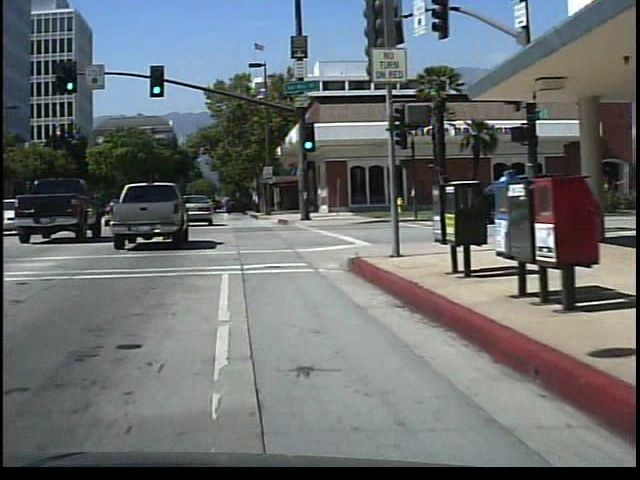car: (104, 179, 185, 252), (10, 177, 98, 241), (183, 191, 218, 226)
strada: (4, 230, 586, 455)
